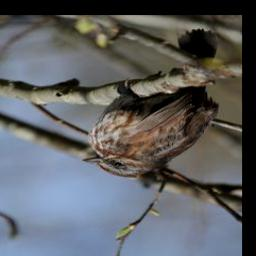Sparrow: (84, 30, 221, 180)
